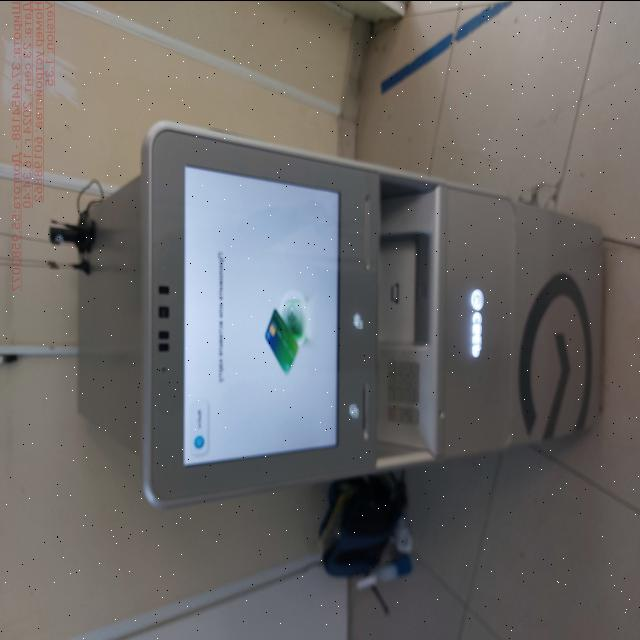bank: (76, 122, 605, 512)
